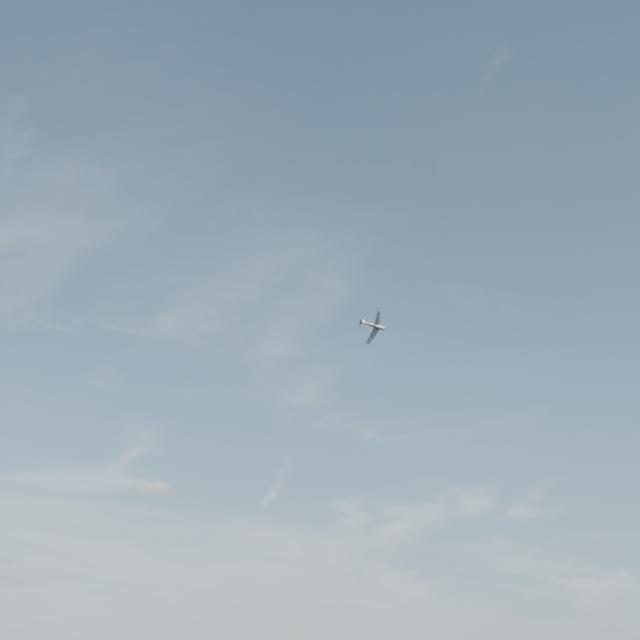Airaplan: (359, 311, 386, 344)
